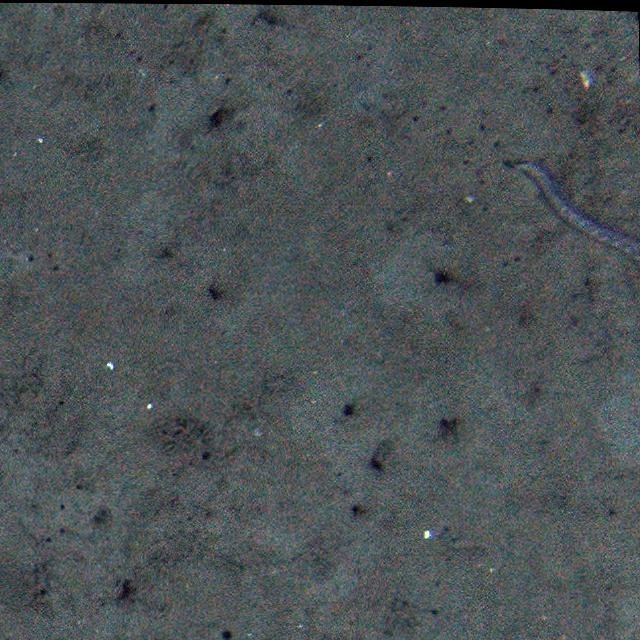roundfish: (513, 161, 640, 265)
